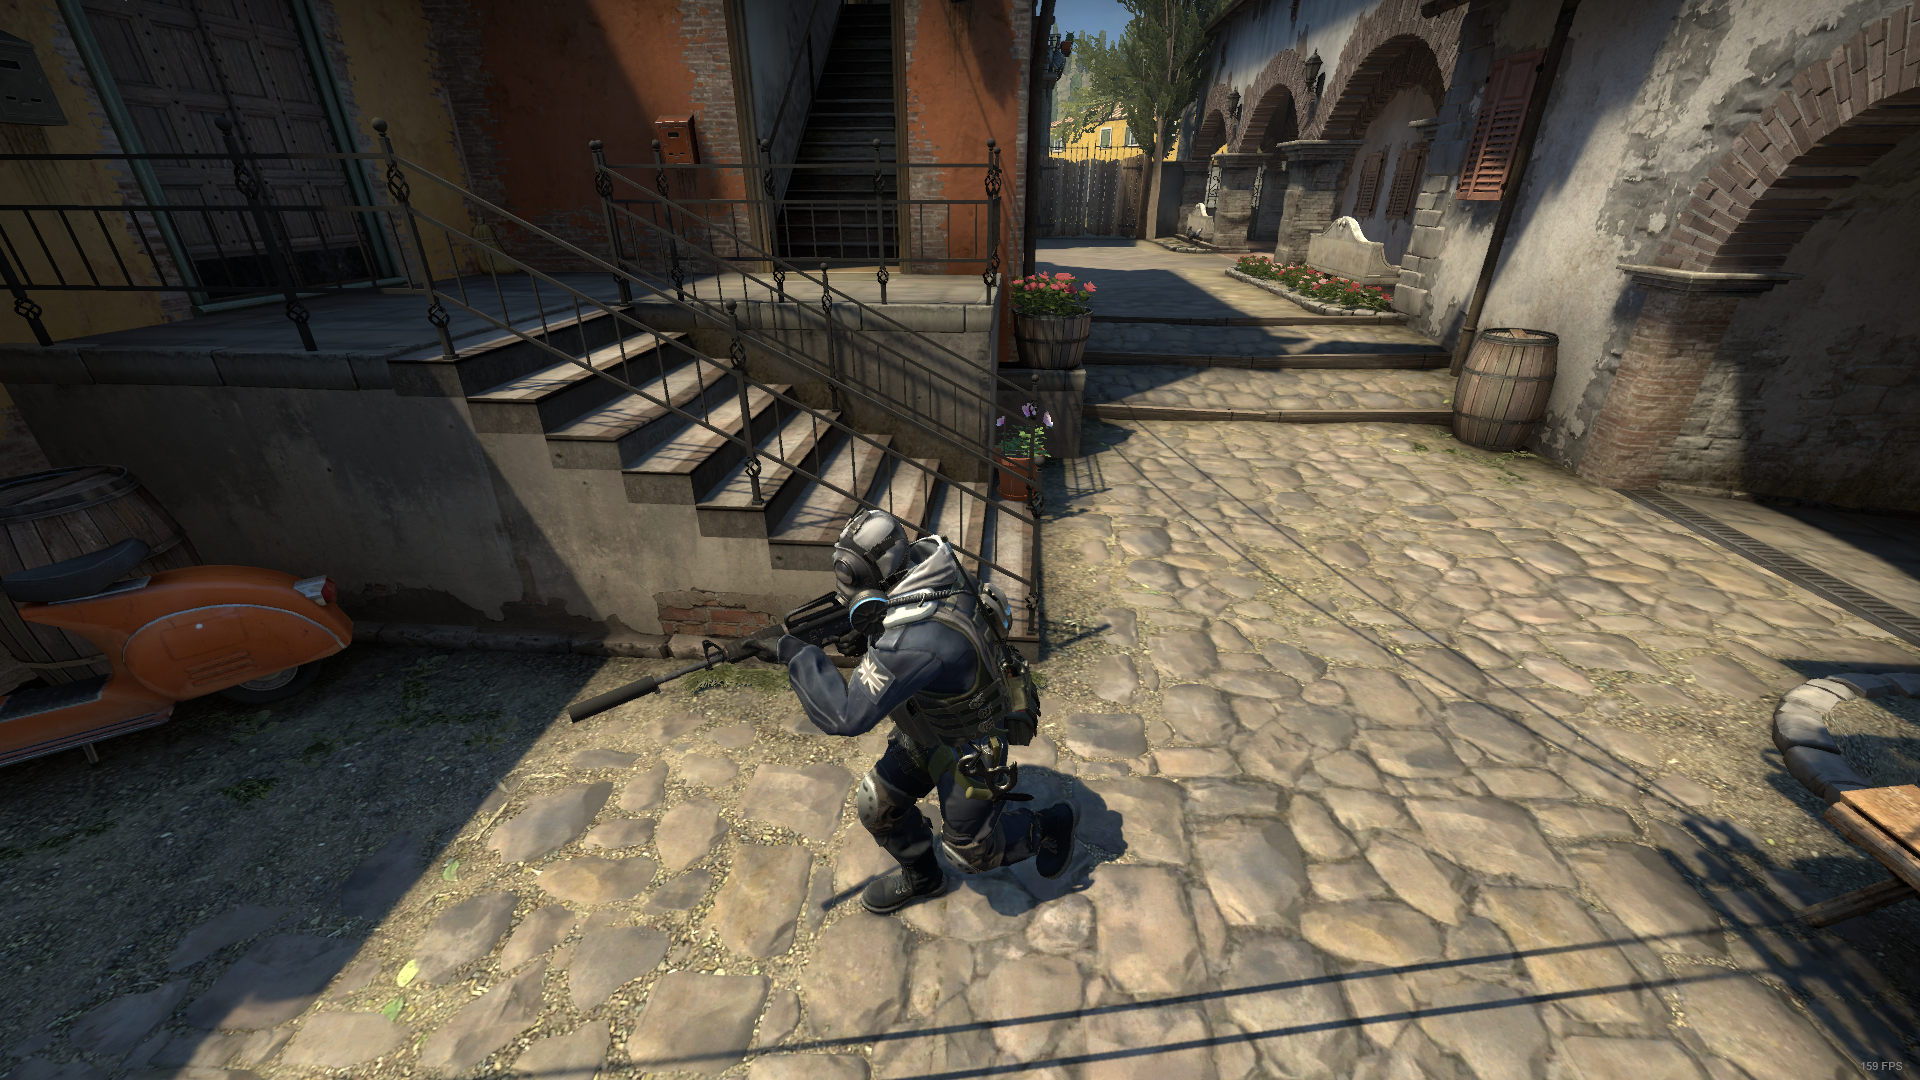ct: (787, 505, 1098, 928)
